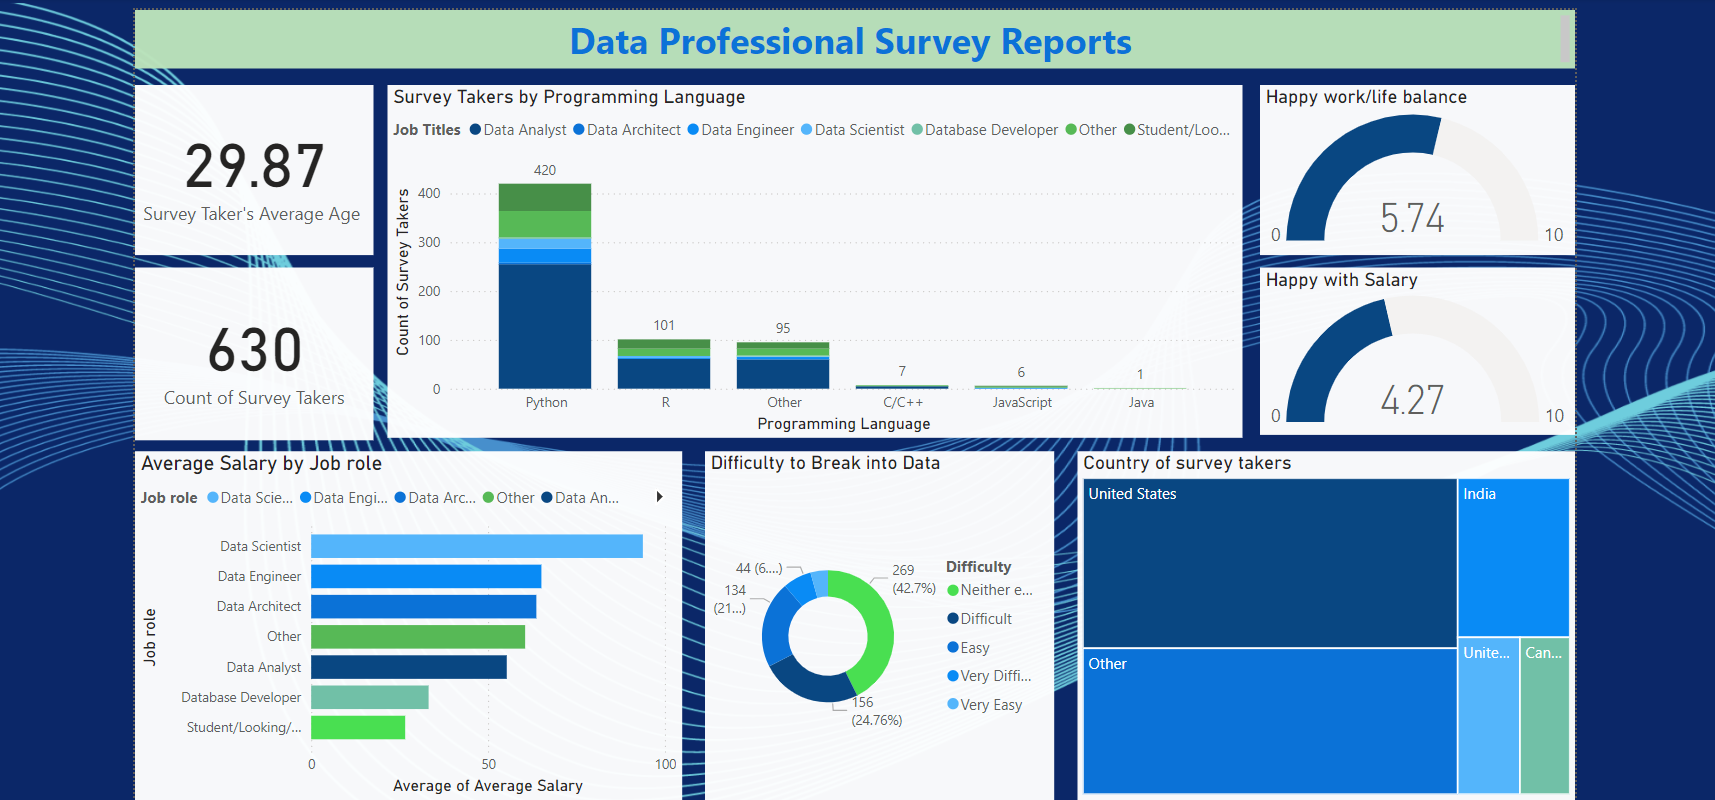

The page's visual inventory and layout, read from the dashboard file:
{"tool":"powerbi","page":{"name":"Page 1","canvas":[1280,720],"ordinal":0},"visuals":[{"type":"textbox","box":[0,0,1280,51.9],"z":0},{"type":"card","fields":{"Values":["Count(Data Professional Survey.Unique ID)"]},"box":[0,229.2,212.3,153.2],"z":1000},{"type":"card","fields":{"Values":["Avg(Data Professional Survey.Q10 - Current Age)"]},"box":[0,66.4,212.3,150.8],"z":2000},{"type":"barChart","title":"Average Salary by Job role","fields":{"Category":["Data Professional Survey.Q1 - Which Title Best Fits your Current Role?.1"],"Y":["Avg(Data Professional Survey.Average Salary)"],"Series":["Data Professional Survey.Q1 - Which Title Best Fits your Current Role?.1"]},"box":[0,392.1,486.2,310.1],"z":3000},{"type":"columnChart","title":"Survey Takers by Programming Language","fields":{"Category":["Data Professional Survey.Q5 - Favorite Programming Language.1"],"Y":["Count(Data Professional Survey.Unique ID)"],"Series":["Data Professional Survey.Q1 - Which Title Best Fits your Current Role?.1"]},"box":[224.4,66.4,760.1,313.7],"z":4000},{"type":"treemap","title":"Country of survey takers","fields":{"Group":["Data Professional Survey.Q11 - Which Country do you live in?.1.1"],"Values":["CountNonNull(Data Professional Survey.Q10 - Current Age)"]},"box":[837.3,392.1,442.8,310.1],"z":5000},{"type":"gauge","title":"Happy work/life balance","fields":{"Y":["Avg(Data Professional Survey.Q6 - How Happy are you in your Current Position with the following? (Work/Life Balance))"],"MinValue":["Min(Data Professional Survey.Q6 - How Happy are you in your Current Position with the following? (Work/Life Balance))"],"MaxValue":["Max(Data Professional Survey.Q6 - How Happy are you in your Current Position with the following? (Work/Life Balance))1"]},"box":[1000.1,66.4,279.9,150.8],"z":5001},{"type":"gauge","title":"Happy with Salary","fields":{"Y":["Avg(Data Professional Survey.Q6 - How Happy are you in your Current Position with the following? (Salary))"],"MinValue":["Min(Data Professional Survey.Q6 - How Happy are you in your Current Position with the following? (Salary))"],"MaxValue":["Max(Data Professional Survey.Q6 - How Happy are you in your Current Position with the following? (Salary))"]},"box":[999.7,228.8,280.6,148.5],"z":5002},{"type":"donutChart","title":"Difficulty to Break into Data","fields":{"Category":["Data Professional Survey.Q7 - How difficult was it for you to break into Data?"],"Y":["CountNonNull(Data Professional Survey.Q7 - How difficult was it for you to break into Data?)"]},"box":[506.7,392.1,310.1,310.1],"z":5003}]}

Visuals, with their boxes in screenshot pixels (x1, y1, x2, y2):
textbox: <box>125,0,1578,50</box>
card - Count(Data Professional Survey.Unique ID): <box>125,251,366,425</box>
card - Avg(Data Professional Survey.Q10 - Current Age): <box>125,66,366,238</box>
"Average Salary by Job role" barChart: <box>125,436,677,788</box>
"Survey Takers by Programming Language" columnChart: <box>380,66,1243,423</box>
"Country of survey takers" treemap: <box>1076,436,1578,788</box>
"Happy work/life balance" gauge: <box>1260,66,1578,238</box>
"Happy with Salary" gauge: <box>1260,251,1578,419</box>
"Difficulty to Break into Data" donutChart: <box>700,436,1052,788</box>
